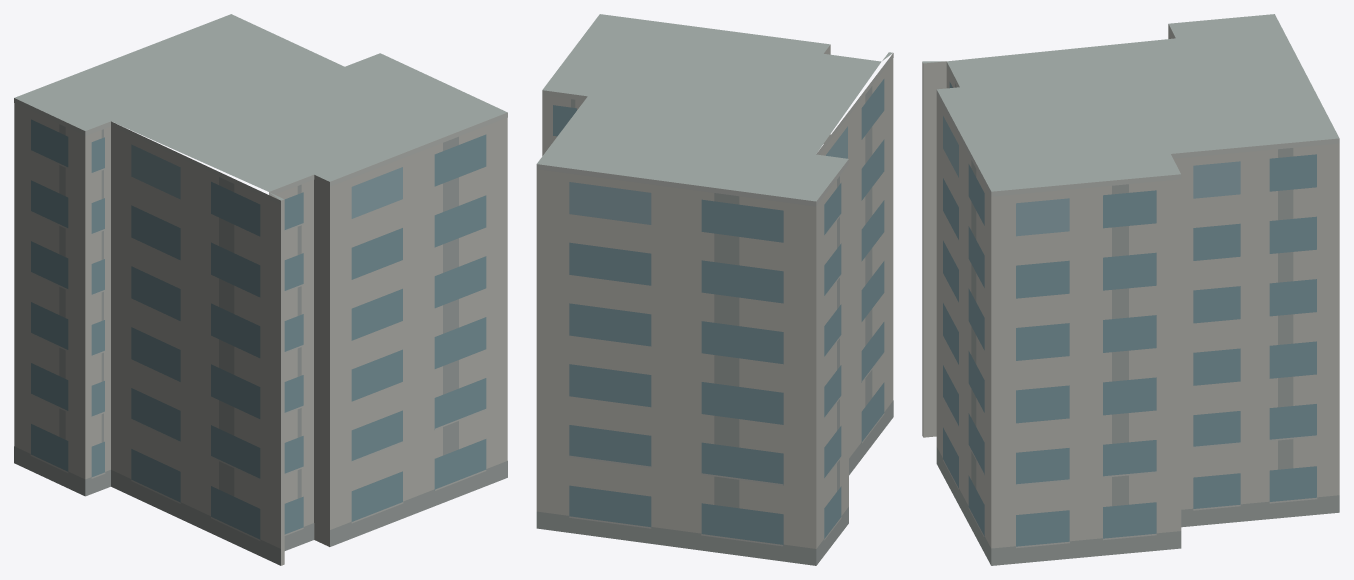
Rendered from survey-upis-32820498.glb.
The picture shows the model from 3 angles, left to right: view 1: azimuth 30°, elevation 25°; view 2: azimuth 150°, elevation 25°; view 3: azimuth 270°, elevation 25°; orthographic projection. The views are drawn at different scales.
Parts seen in each view (by area): view 1: survey-upis-32820498.tmp; view 2: survey-upis-32820498.tmp; view 3: survey-upis-32820498.tmp.
Part boxes in pixels (x1=…): survey-upis-32820498.tmp: x1=14, y1=14, x2=507, y2=565; survey-upis-32820498.tmp: x1=536, y1=14, x2=893, y2=565; survey-upis-32820498.tmp: x1=922, y1=14, x2=1339, y2=565.
Size of the model in its own units: 17.93 by 17.6 by 17.8.
